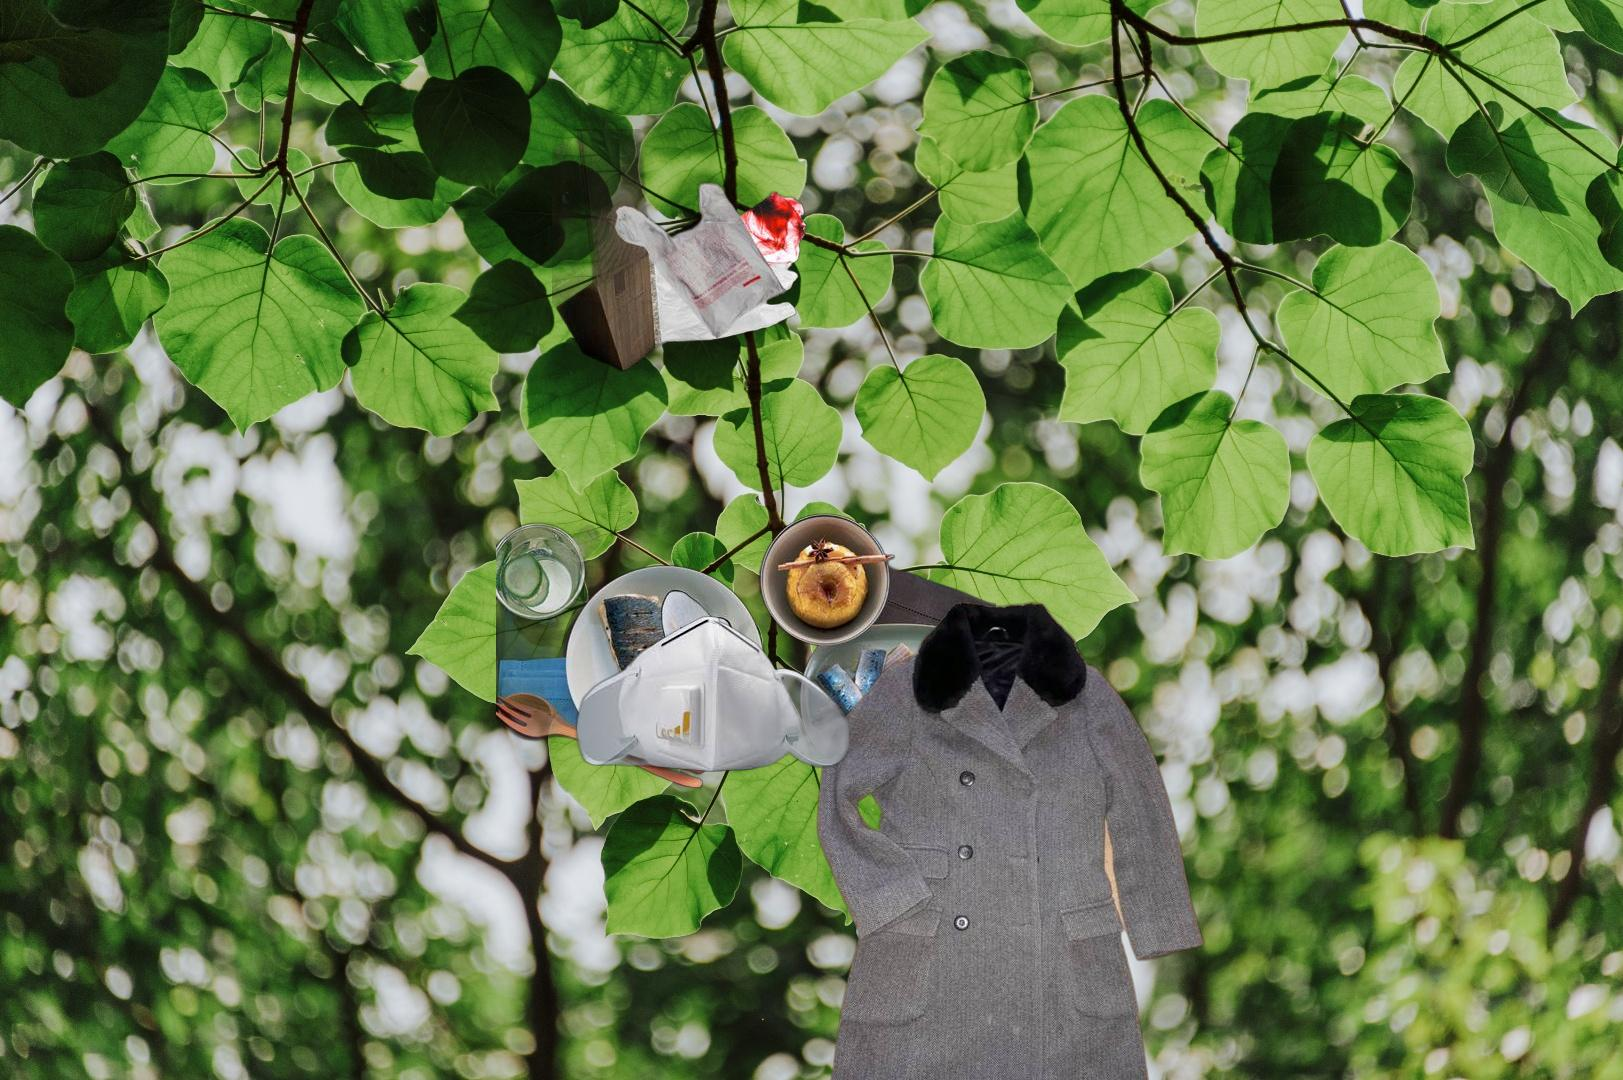biological: (496, 512, 996, 790)
clothes: (813, 595, 1209, 1080)
plastic-bag: (552, 129, 808, 372)
plastic-bottles: (675, 476, 1187, 969)
trash: (574, 614, 849, 775)
